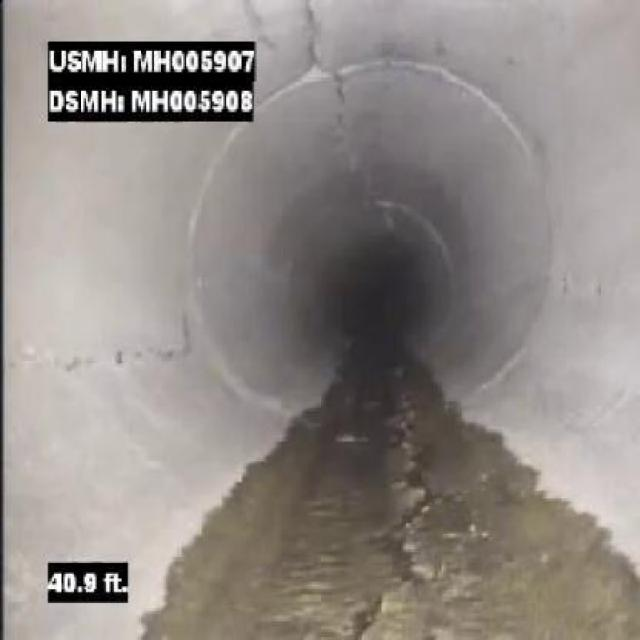Buckling: (378, 464, 448, 584), (343, 583, 395, 637)
Crack: (46, 323, 206, 380), (302, 52, 368, 132), (562, 268, 632, 318), (294, 0, 326, 37)
